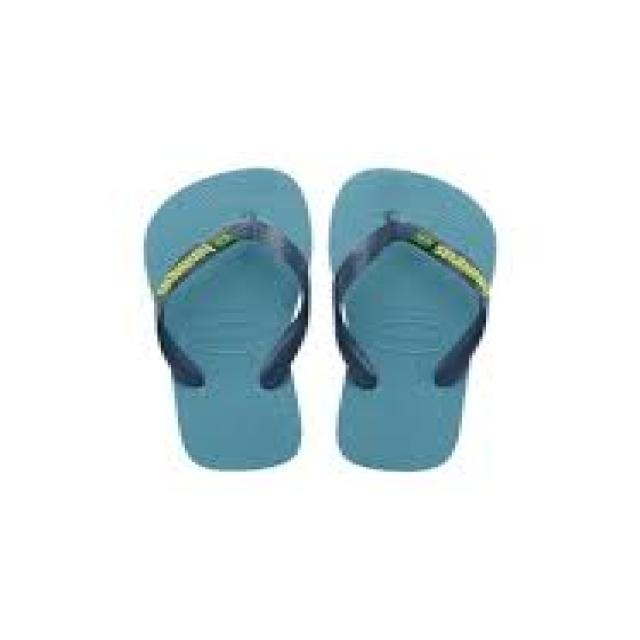Sandals: (78, 120, 589, 523)
